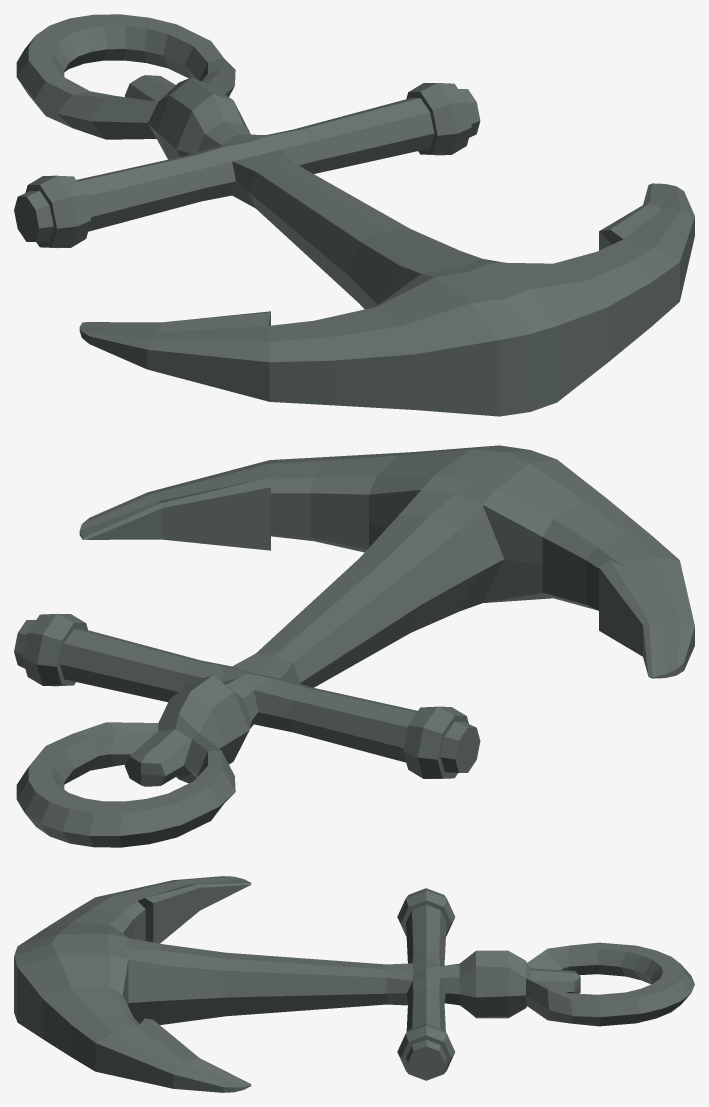
3 renders of one model, top to bottom at view 1: azimuth 30°, elevation 25°; view 2: azimuth 150°, elevation 25°; view 3: azimuth 270°, elevation 25°, orthographic. The views are drawn at different scales.
Visible parts, largest first — view 1: Anchor; view 2: Anchor; view 3: Anchor.
Part boxes in pixels (x1,y1,x2,y2): Anchor: (14,14,694,416); Anchor: (14,445,694,847); Anchor: (14,876,694,1092).
Size of the model in its own units: 7.03 by 1.26 by 9.58.
1 material, 1 textured.
